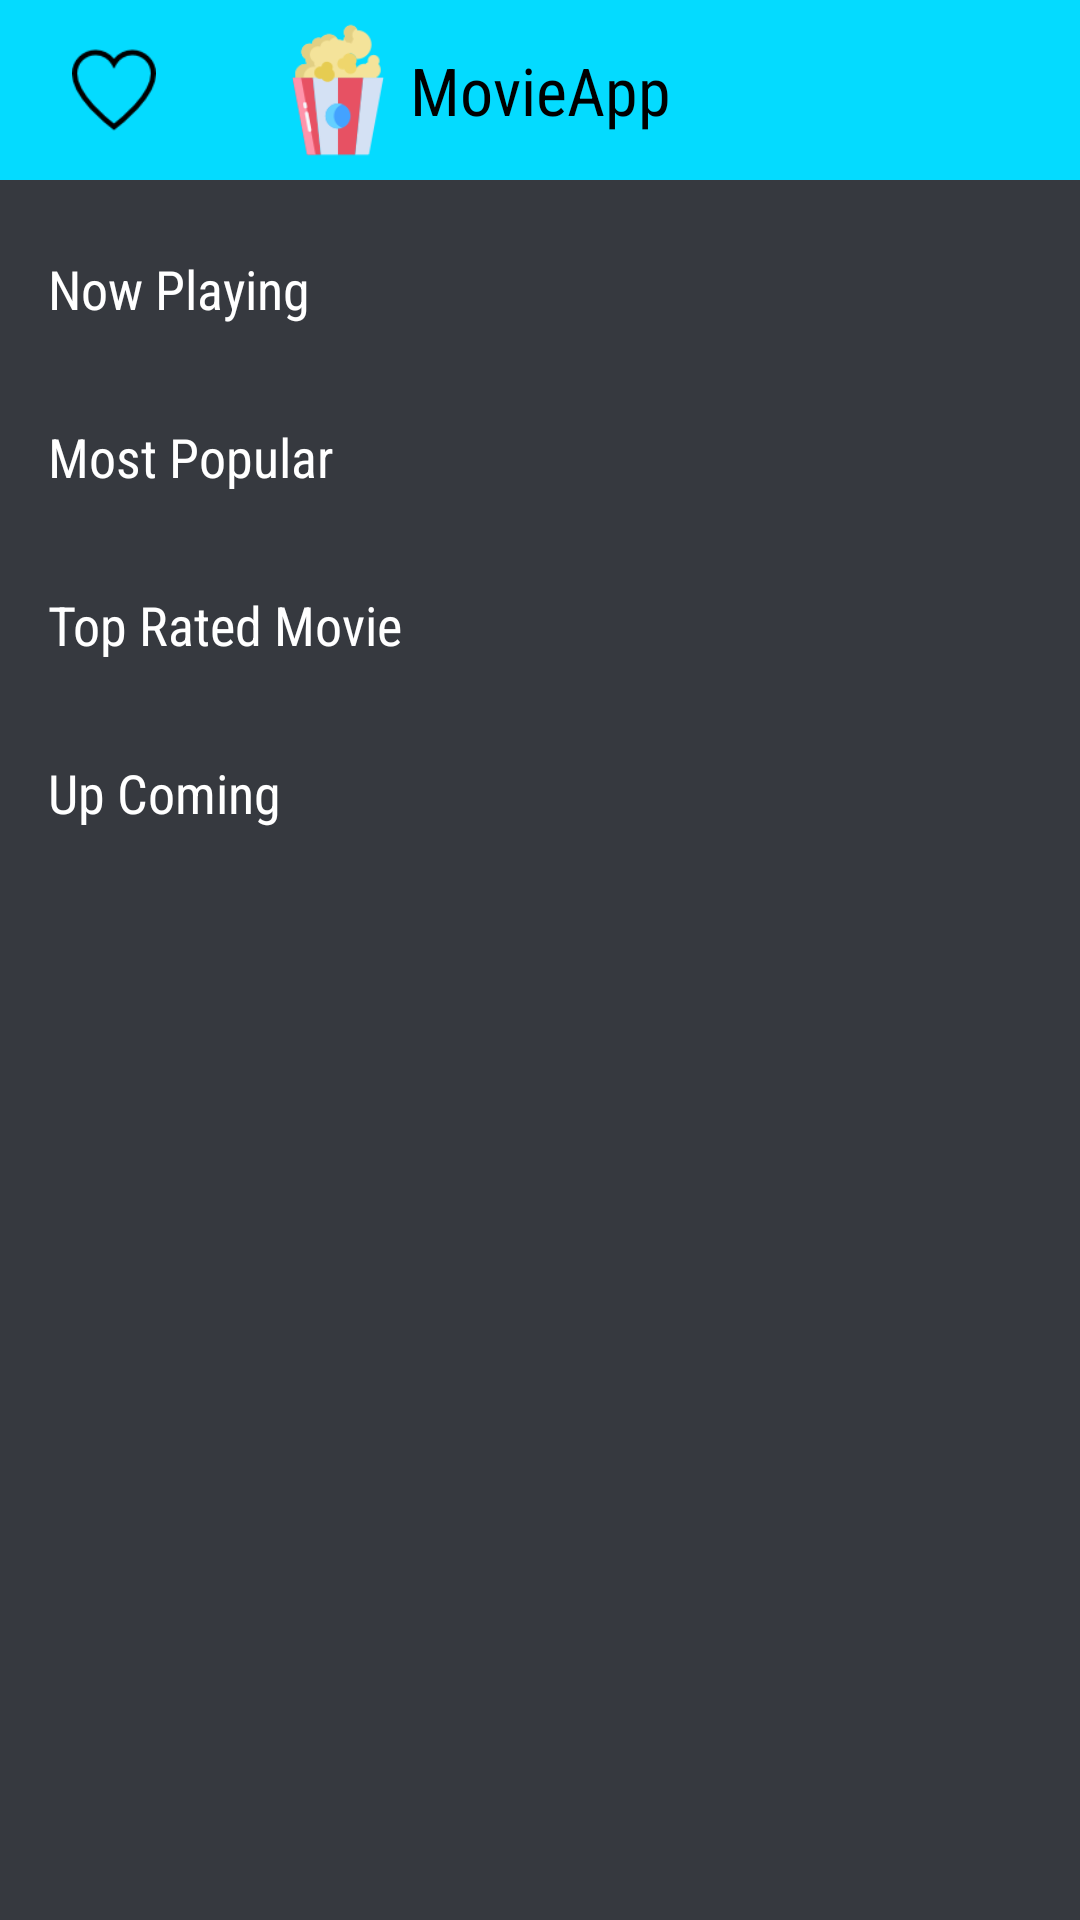

Where icons sit on this 1080×1920 app screen, as (x1, y1, x2, y2):
favorite: (72, 49, 156, 131)
pop corn: (292, 24, 384, 156)
